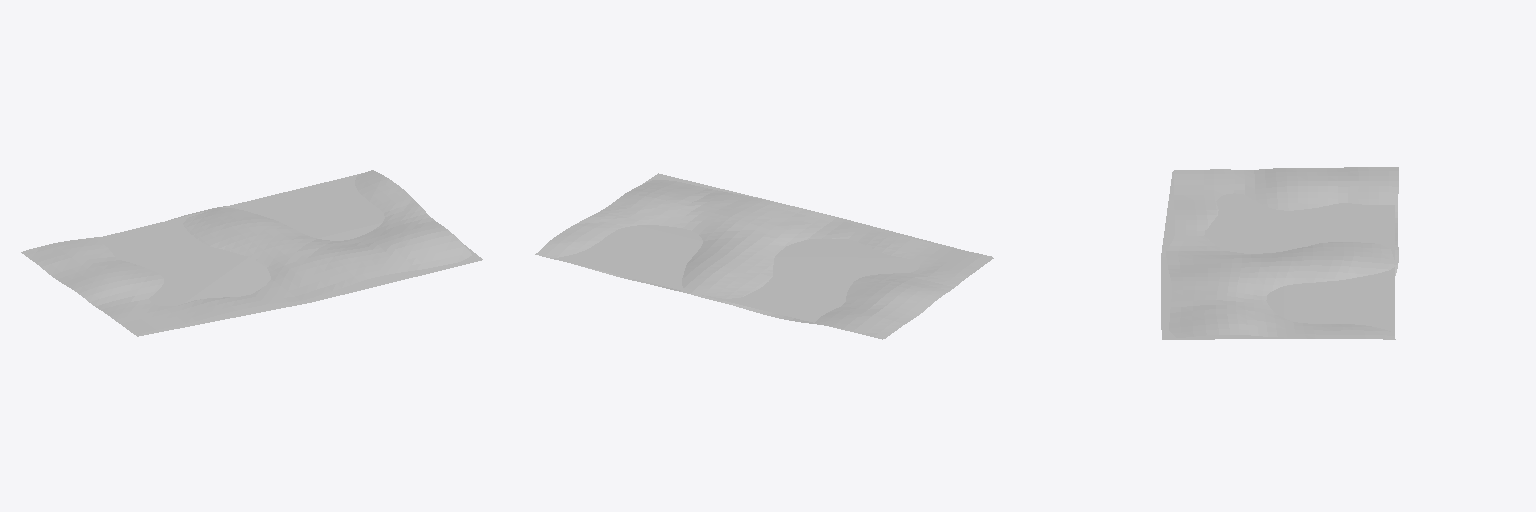
File: Landscape.obj
The picture shows the model from 3 angles: view 1: azimuth 30°, elevation 25°; view 2: azimuth 150°, elevation 25°; view 3: azimuth 270°, elevation 25°; orthographic projection.
Parts seen in each view (by area): view 1: Landscape; view 2: Landscape; view 3: Landscape.
Boxes of the visible parts, <box> form: Landscape: <box>21,170,482,336</box>; Landscape: <box>535,173,993,339</box>; Landscape: <box>1161,167,1398,339</box>.
Size of the model in its own units: 32.66 by 0.9332 by 19.1.